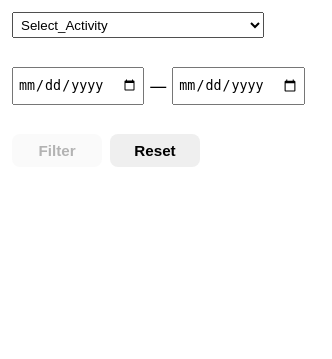
FilterBar › Filter button disabled until Activity selected
Expected: the button "Filter" is disabled, top-left (12, 134), bottom-right (102, 167)
Select "Plank" in the dropdown named "Activity_Name". click: (138, 25)
box: top-left (12, 12), bottom-right (264, 38)
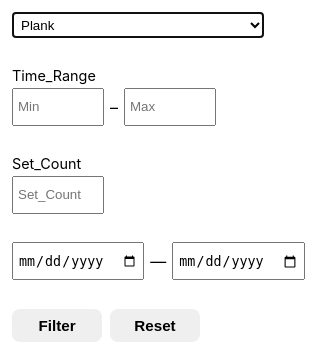
Expected: the button "Filter" is enabled, top-left (12, 309), bottom-right (102, 342)
